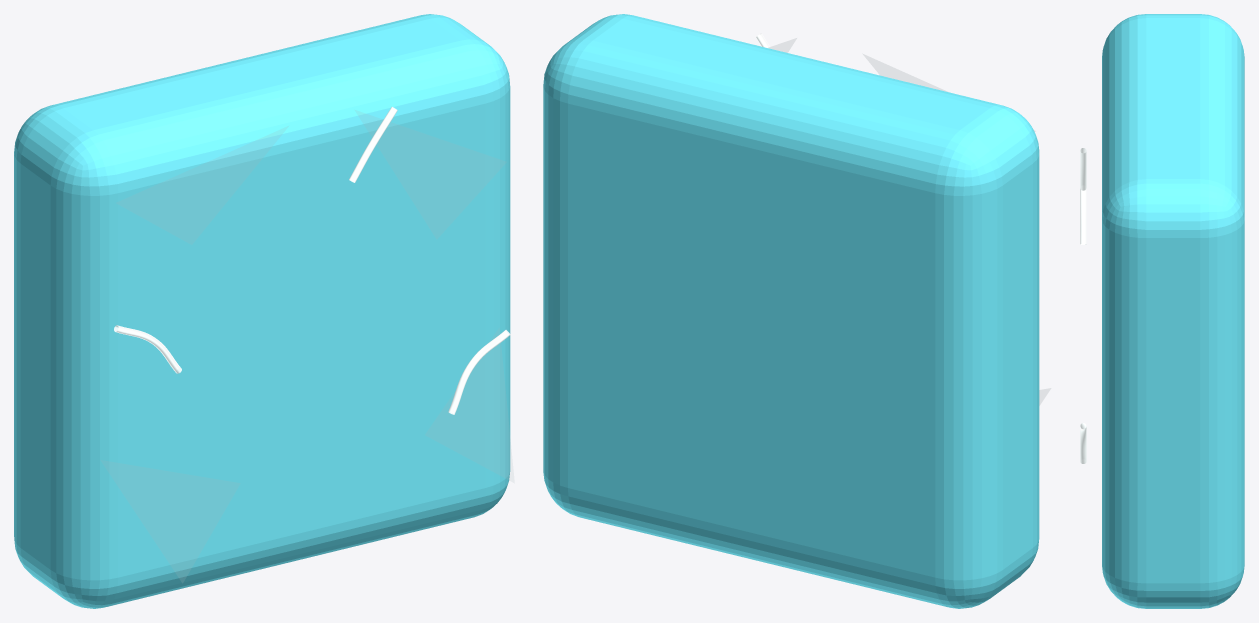
File: ice-cube-field.glb
3 renders of one model, left to right at view 1: azimuth 30°, elevation 25°; view 2: azimuth 150°, elevation 25°; view 3: azimuth 270°, elevation 25°, orthographic. The views are drawn at different scales.
Parts seen in each view (by area): view 1: Field ice cube, Ice facet 3.001, Ice facet 2.001, Ice facet 1.001, Ice facet 4.001, Ice crack 2.001; view 2: Field ice cube; view 3: Field ice cube, Ice crack 1.001, Ice crack 3.001, Ice crack 2.001.
Boxes of the visible parts, x1,y1,x2,y2 form: Field ice cube: (14,14,510,608); Ice facet 3.001: (101,460,239,582); Ice facet 2.001: (355,110,505,238); Ice facet 1.001: (117,126,288,244); Ice facet 4.001: (425,329,513,482); Ice crack 2.001: (448,330,510,414); Field ice cube: (543,14,1039,608); Field ice cube: (1102,14,1244,608); Ice crack 1.001: (1080,188,1086,244); Ice crack 3.001: (1080,148,1086,190); Ice crack 2.001: (1080,423,1086,463).
Bounding box in the file's own units: 2.96 × 2.96 × 1.04.
